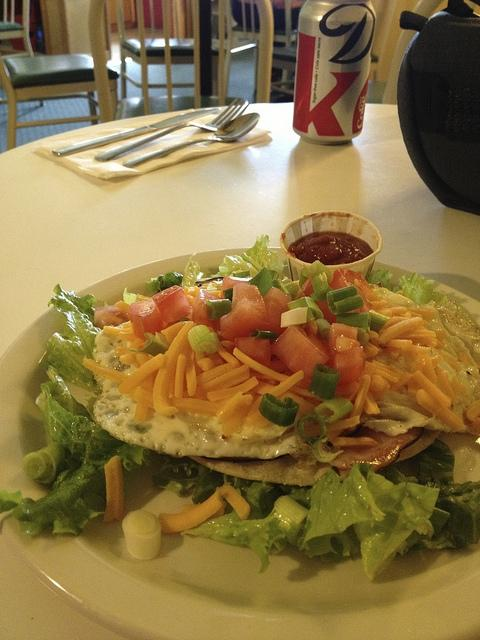green onion: (123, 508, 161, 560), (222, 267, 274, 303), (22, 443, 65, 485), (258, 393, 300, 428), (274, 494, 310, 526), (326, 286, 364, 316), (309, 364, 340, 399), (188, 324, 218, 358), (314, 398, 354, 423), (312, 436, 344, 464), (297, 414, 327, 443), (129, 333, 168, 355), (336, 312, 370, 332), (288, 298, 316, 322), (206, 299, 232, 322), (368, 308, 391, 334), (310, 260, 334, 283), (301, 296, 324, 320), (272, 279, 292, 300), (249, 328, 279, 342), (314, 318, 332, 339), (164, 270, 183, 289), (312, 276, 328, 292), (285, 281, 300, 298), (35, 392, 45, 415), (298, 268, 308, 289), (233, 270, 250, 278)
tomato: (270, 324, 330, 384), (220, 296, 278, 342), (329, 268, 372, 314), (152, 285, 191, 323), (128, 300, 163, 340), (262, 287, 291, 335), (232, 283, 268, 319), (332, 346, 364, 386), (329, 322, 358, 360), (235, 336, 271, 366), (336, 337, 361, 352), (300, 276, 314, 296)
